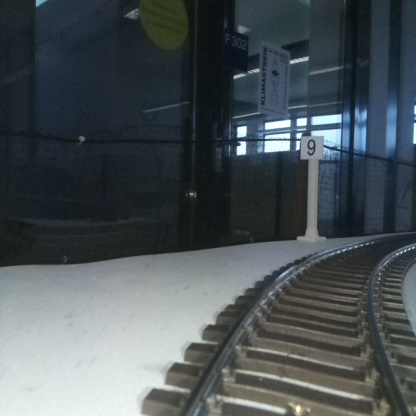white-info-9: (300, 136, 323, 238)
